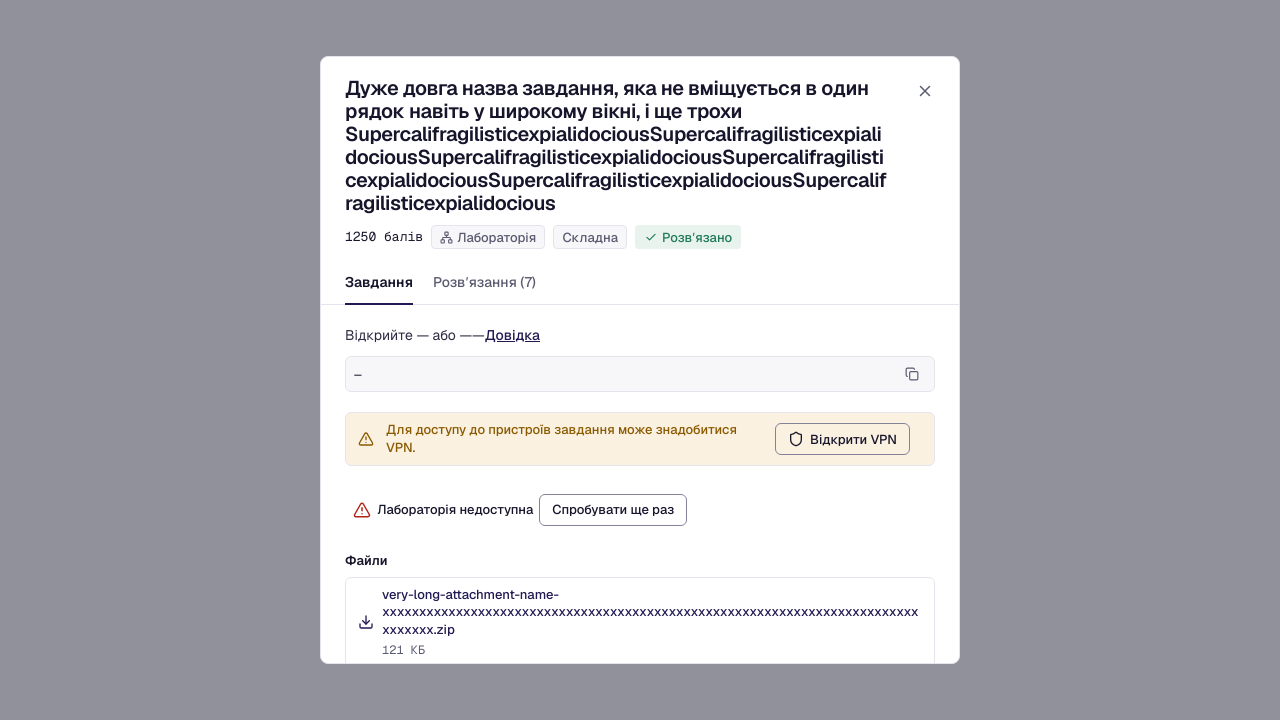
failed refresh with cached runtime forwards error only when access is unusable (matching=false)
Expected: the message "Лабораторія недоступна Спробувати ще раз" is shown, [353,494,687,526]
Click the button "Спробувати ще раз". click: (613, 510)
box: [539,494,687,526]
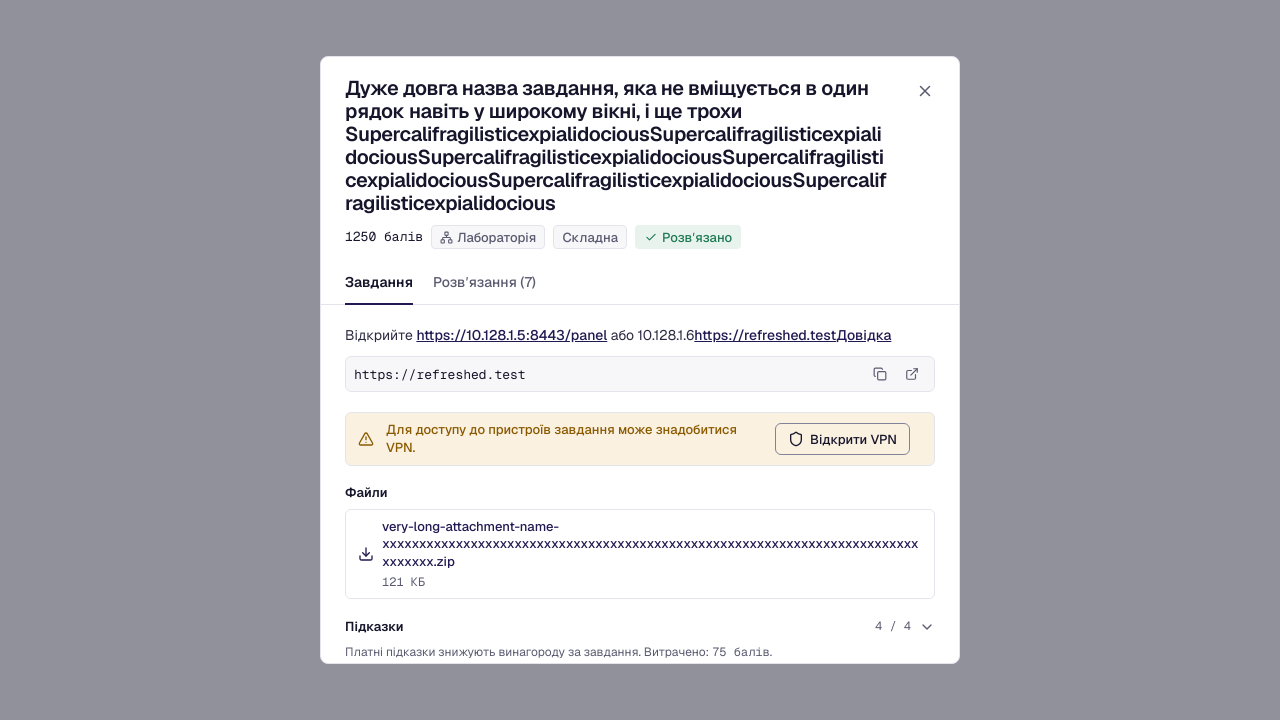
Now the link "https://refreshed.test" is shown, box [694,325,836,347]
